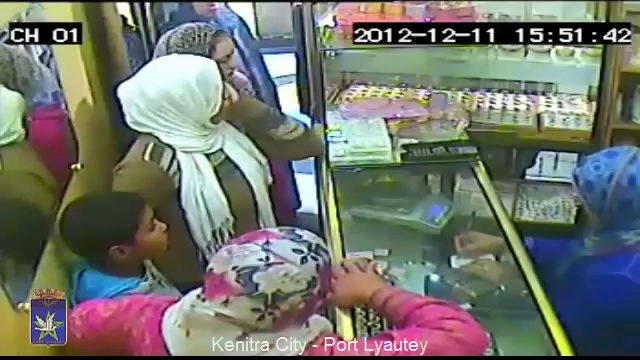face: (123, 214, 172, 260), (212, 32, 242, 76)
